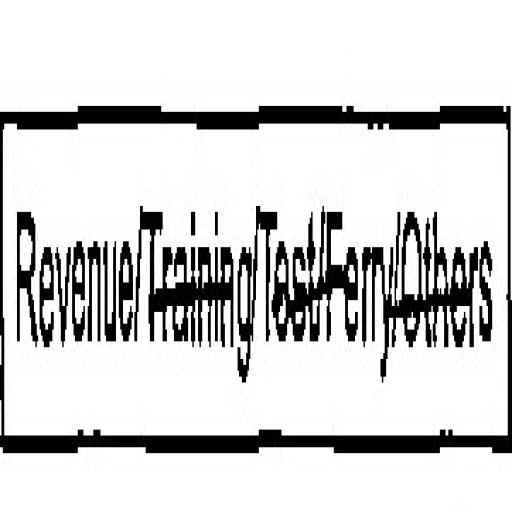check: (0, 35, 136, 493)
